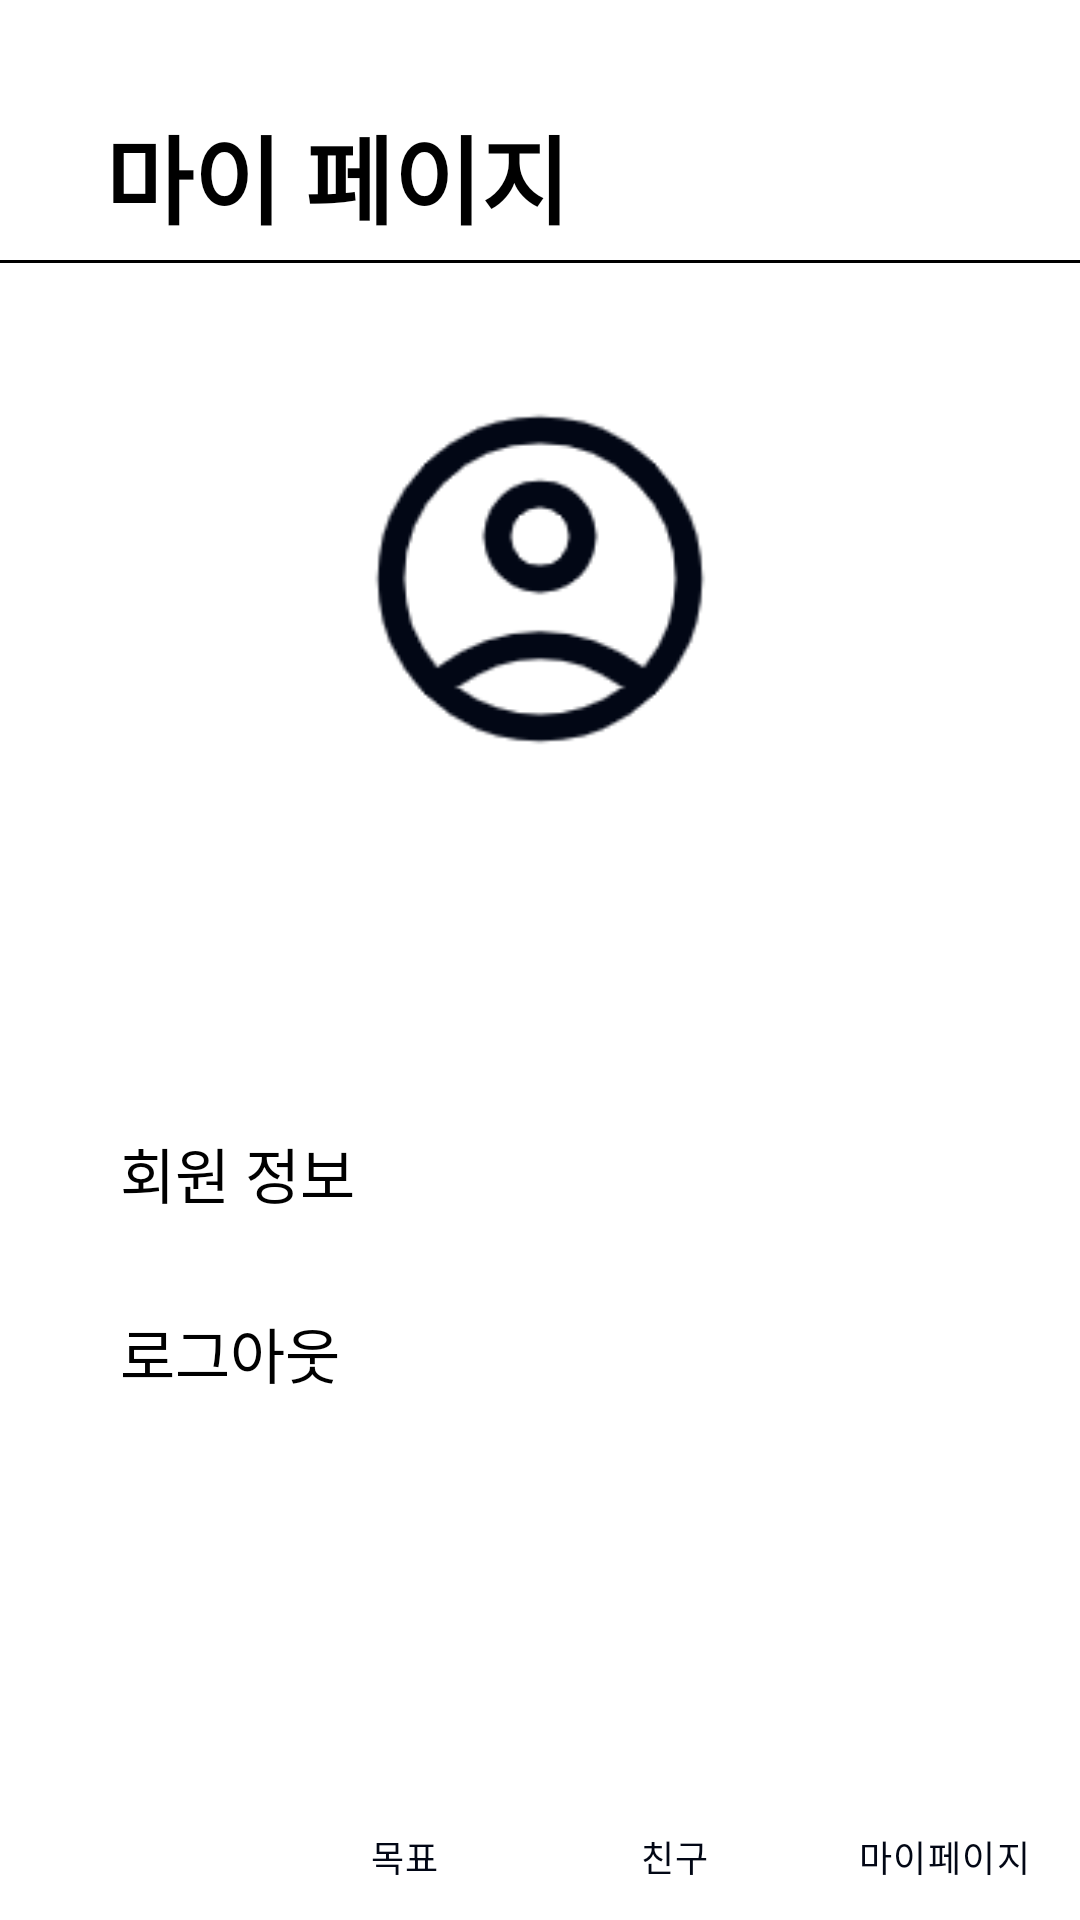

Named icons in this screenshot (1080 x 1920) and their centers, [x,y]:
account: [540,579]
